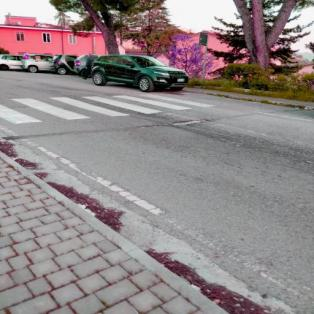Paso de Cebra: (9, 93, 136, 125)
